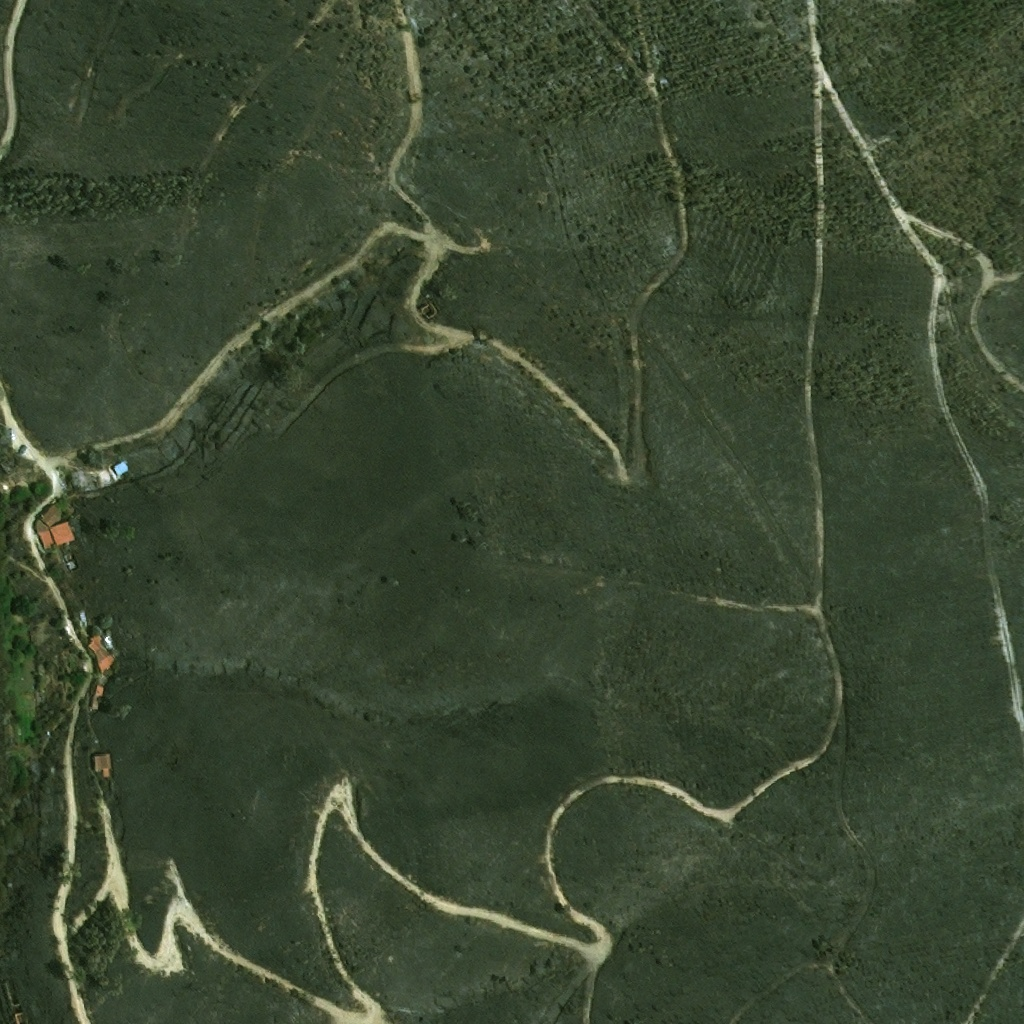0 no-damage: (36, 521, 76, 551), (88, 634, 116, 673), (40, 504, 65, 527), (110, 460, 130, 480), (95, 754, 111, 778)
2 major-damage: (93, 683, 106, 700), (67, 560, 81, 573)
